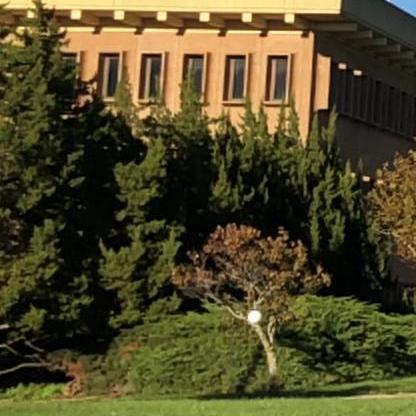golfball: (245, 306, 262, 323)
